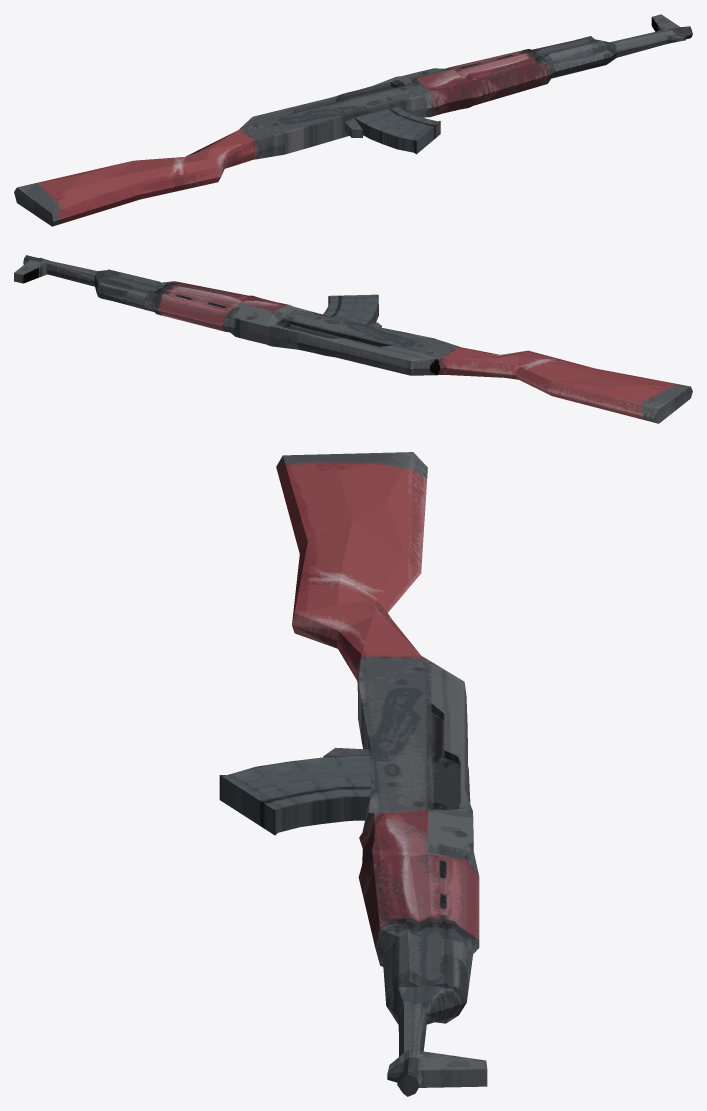
Rendered from affine.glb.
3 views of the same model, one above another, from view 1: azimuth 30°, elevation 25°; view 2: azimuth 150°, elevation 25°; view 3: azimuth 270°, elevation 25° (orthographic). The views are drawn at different scales.
Parts seen in each view (by area): view 1: Affine, Affine mag; view 2: Affine, Affine mag; view 3: Affine, Affine mag.
Part boxes in pixels (x1,y1,x2,y2): Affine: [14, 14, 692, 226]; Affine mag: [354, 106, 440, 154]; Affine: [14, 255, 692, 423]; Affine mag: [323, 294, 378, 324]; Affine: [276, 452, 487, 1096]; Affine mag: [219, 755, 371, 835].
Size of the model in its own units: 4.07 by 0.1804 by 0.7441.
1 material, 1 textured.
